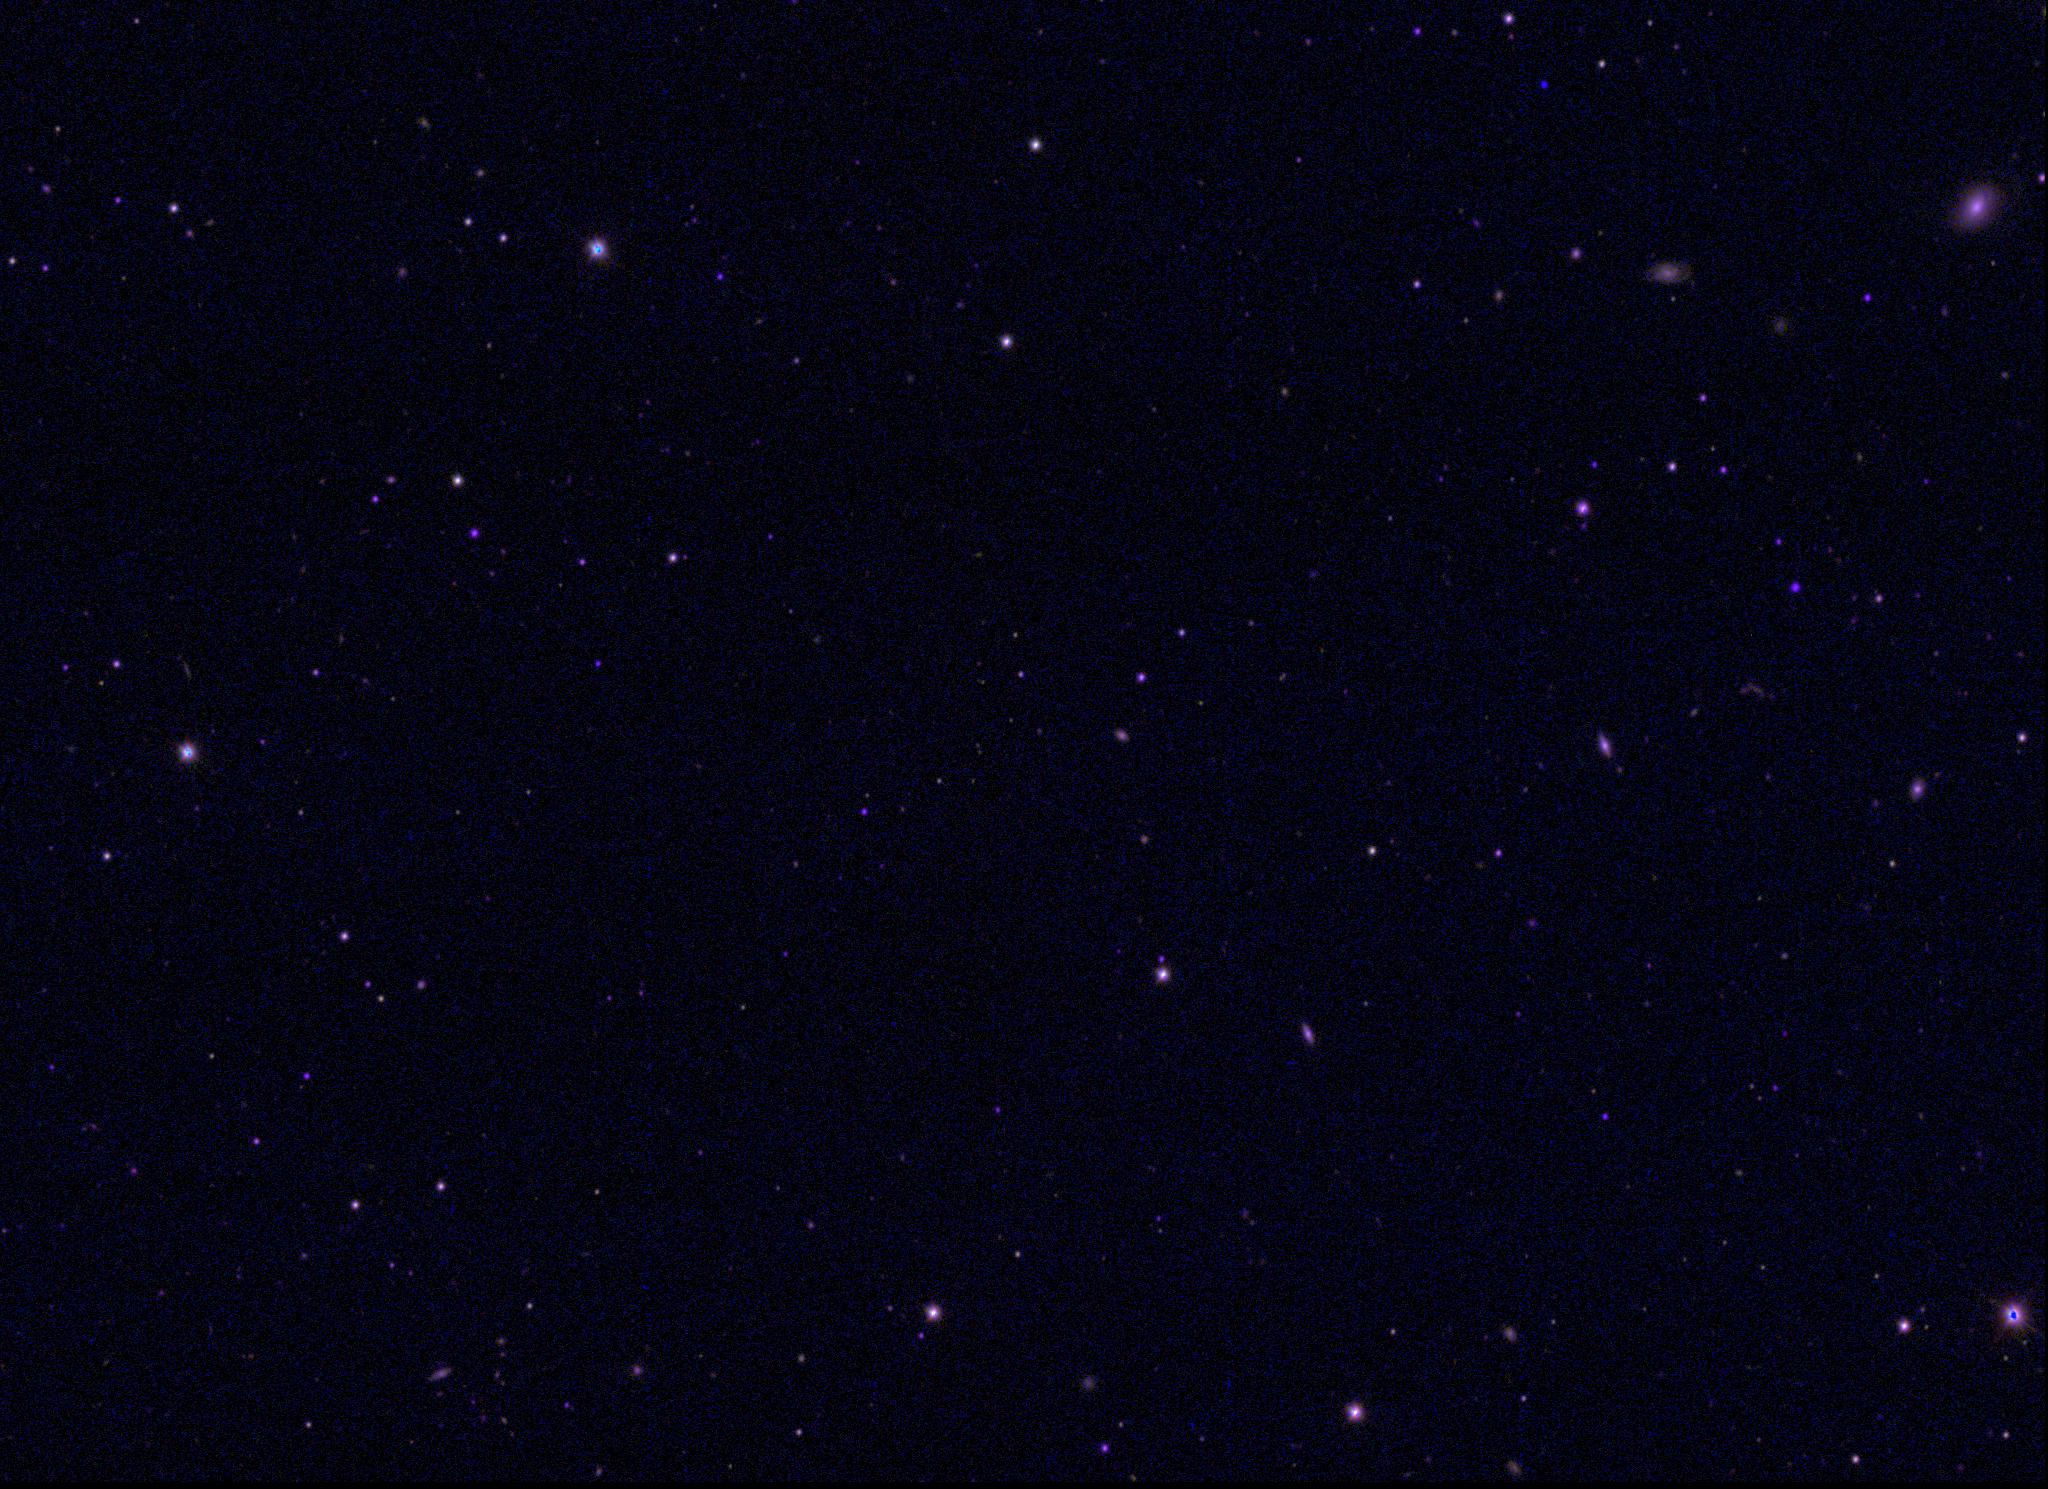L: (1538, 78, 1550, 92)
